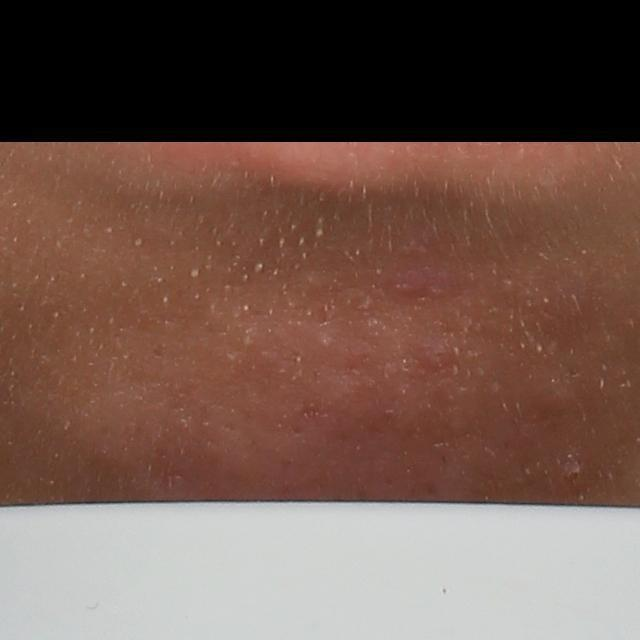papule: (381, 269, 430, 298)
